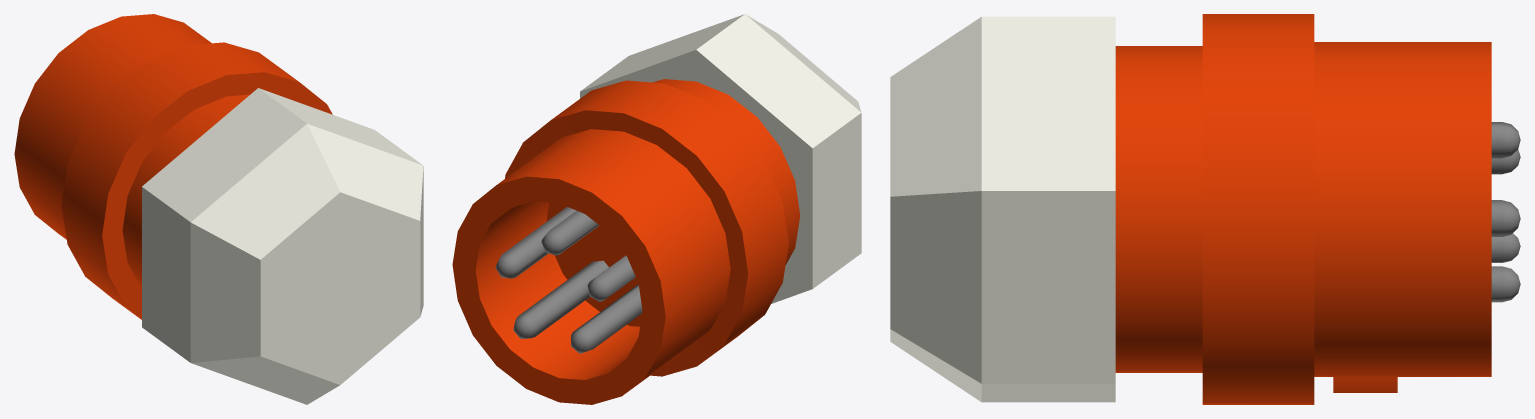
The model's file is electrical_plug.fbx.
3 renders of one model, left to right at view 1: azimuth 30°, elevation 25°; view 2: azimuth 150°, elevation 25°; view 3: azimuth 270°, elevation 25°, orthographic. The views are drawn at different scales.
Visible parts, largest first — view 1: Cylinder; view 2: Cylinder; view 3: Cylinder.
Part boxes in pixels (box(x1,y1,x2,y2)): Cylinder: box(14, 14, 423, 404); Cylinder: box(452, 14, 861, 404); Cylinder: box(890, 14, 1520, 404).
Bounding box in the file's own units: 0.0928 × 0.1002 × 0.1484.
